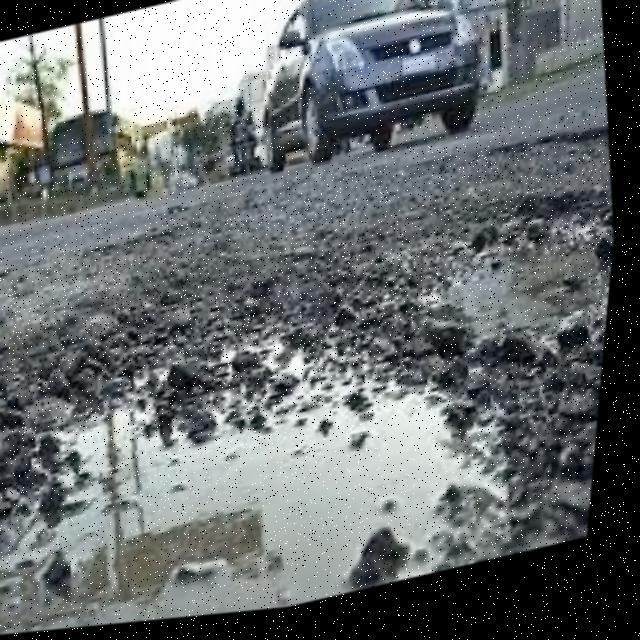pothole: (0, 129, 628, 640)
